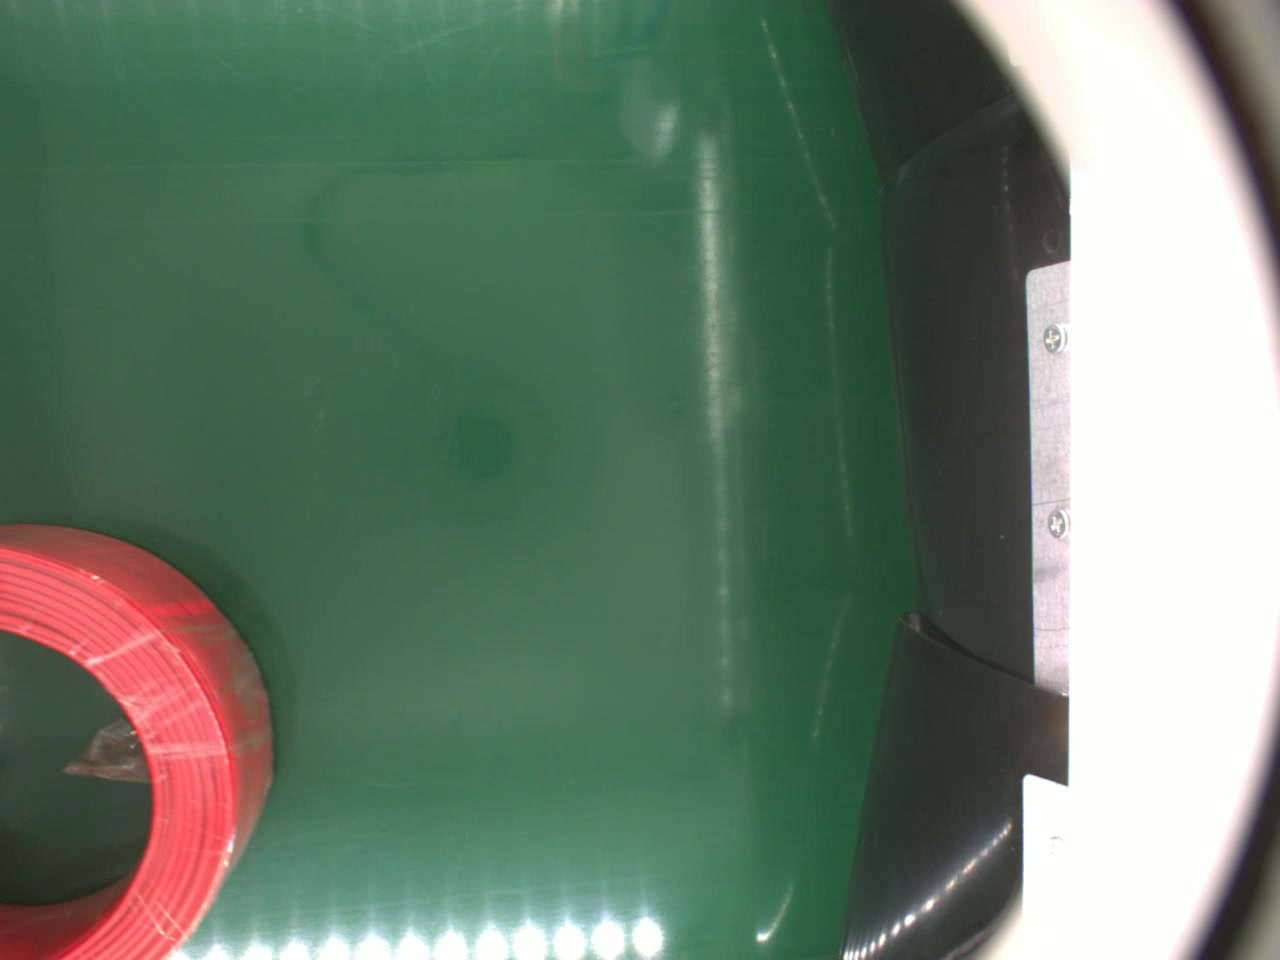red: (0, 521, 267, 960)
